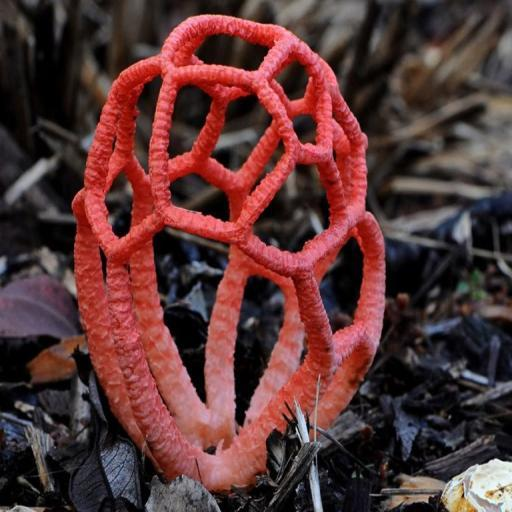mushroom: (75, 13, 389, 492)
